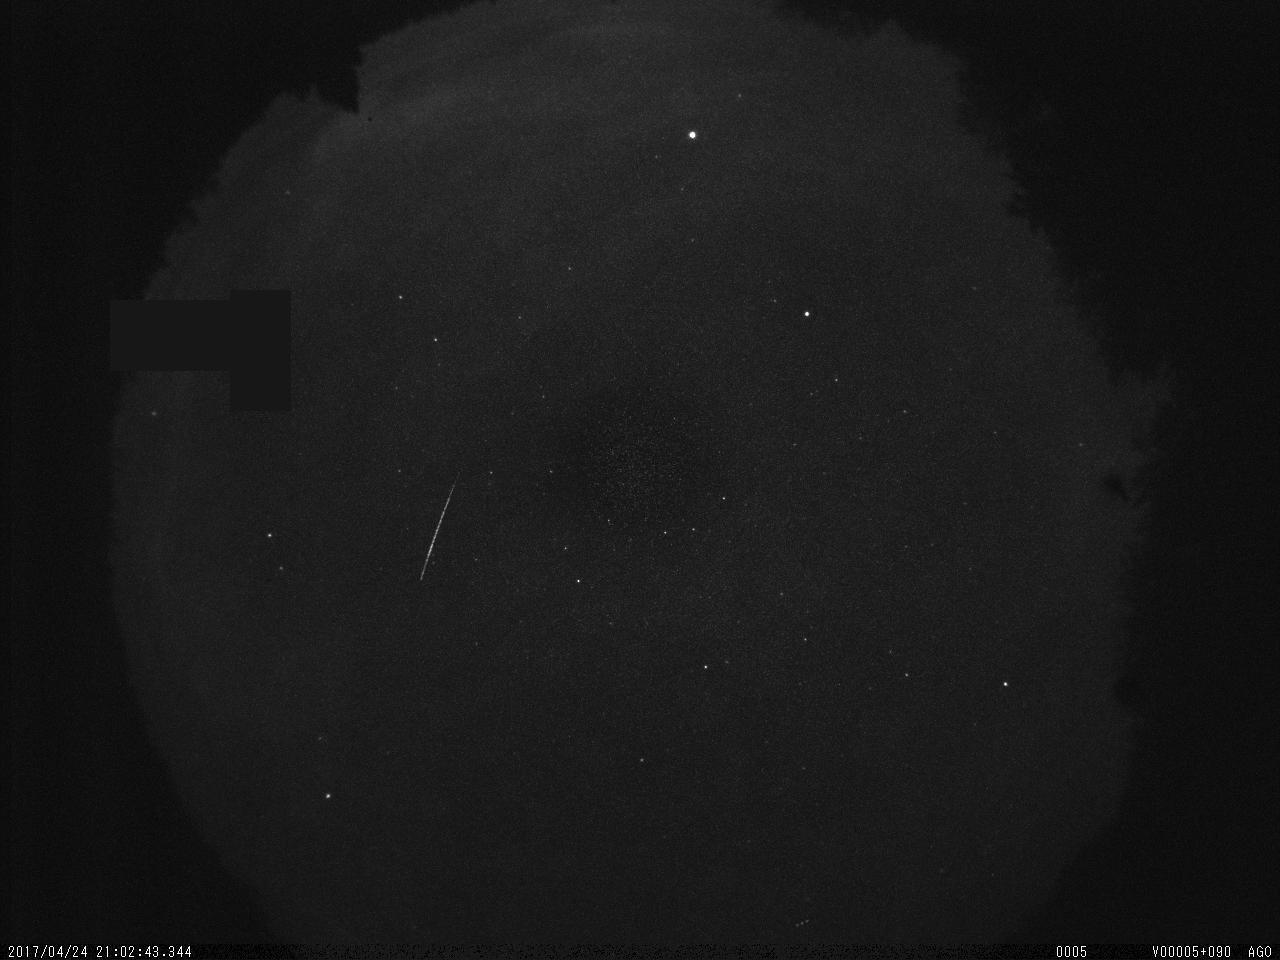meteor: (412, 467, 463, 582)
